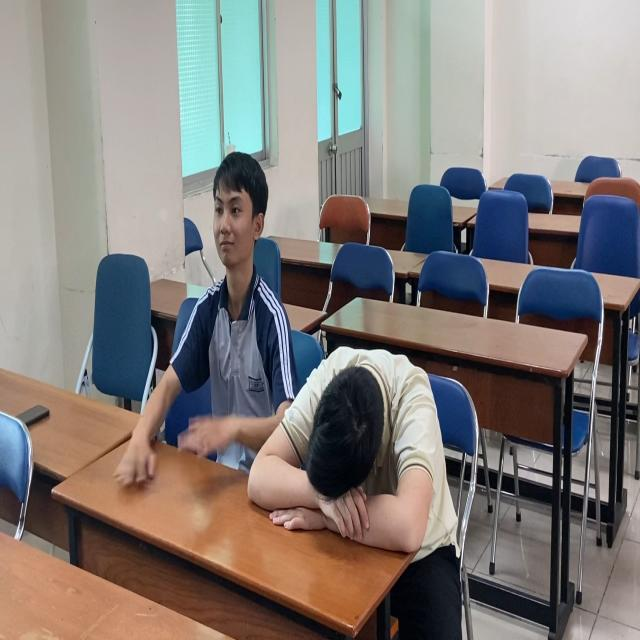sleep: (253, 339, 456, 545)
